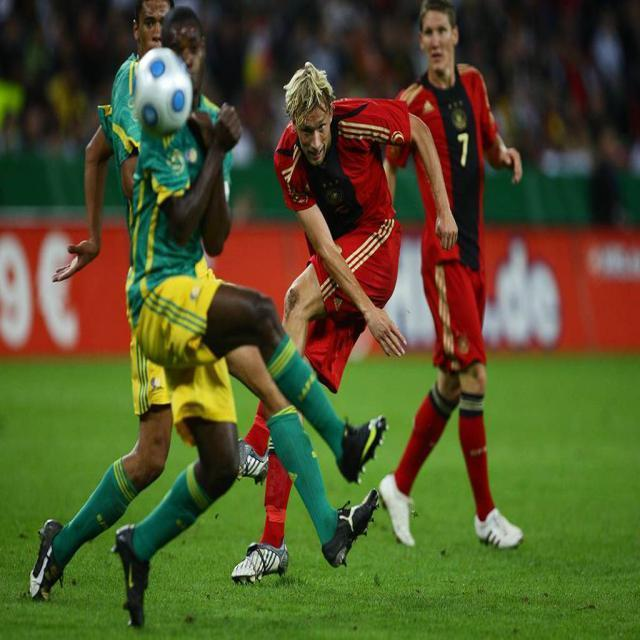football: (119, 33, 214, 128)
